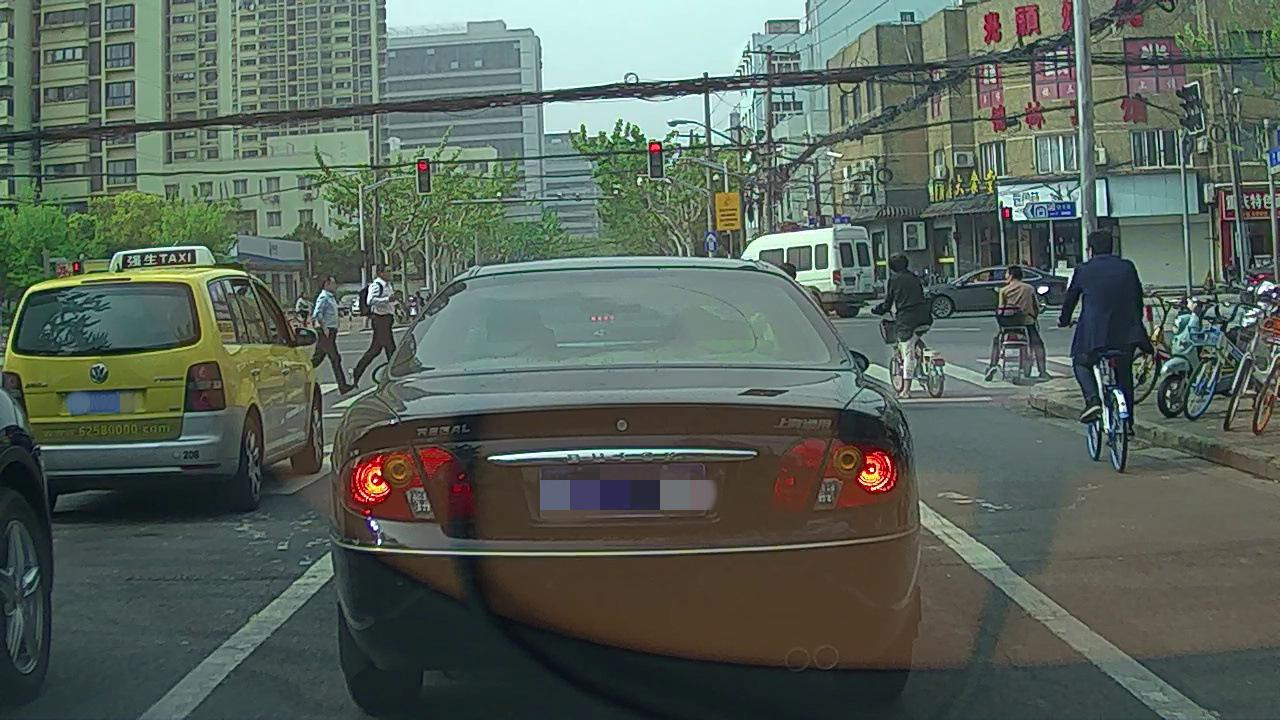traffic_light: (649, 140, 661, 183), (418, 157, 431, 194)
